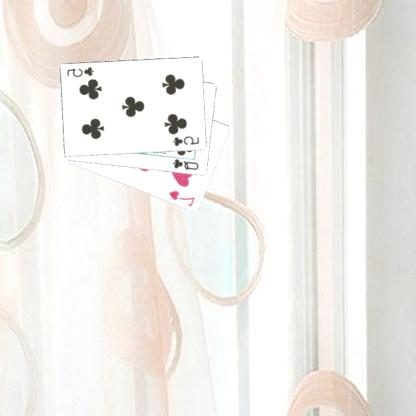5C: (66, 64, 98, 79), (172, 133, 203, 148)
7H: (168, 188, 198, 208)
QC: (172, 156, 202, 172)
